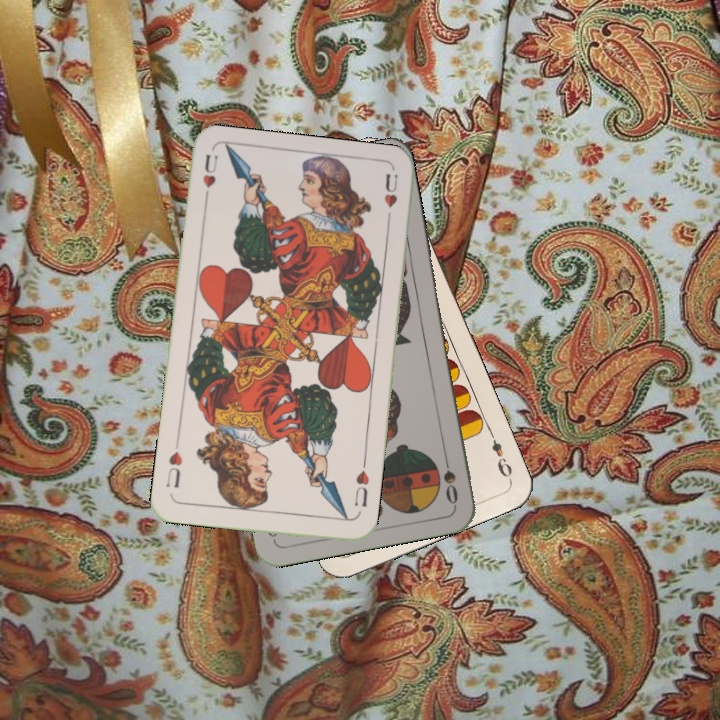E9: (485, 426, 515, 483)
HU: (199, 150, 221, 208), (350, 467, 372, 509)
SO: (439, 448, 461, 507)
